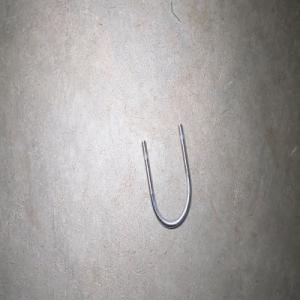ClampPart: (141, 123, 191, 229)
